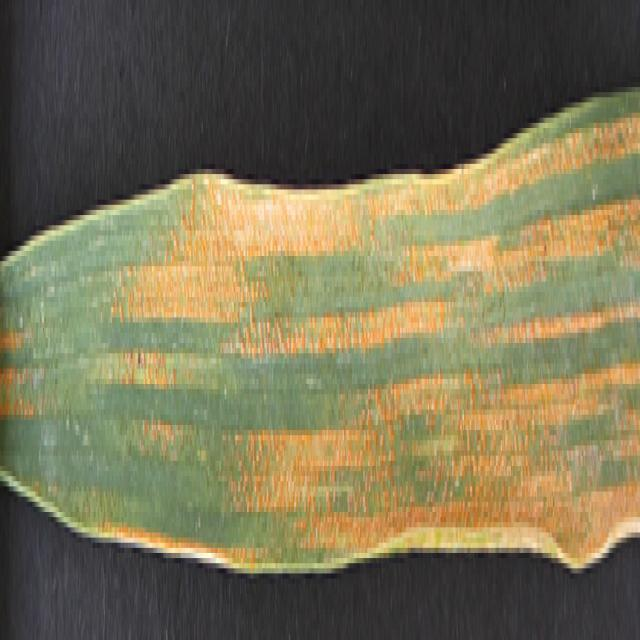leaf rust: (96, 97, 640, 563), (0, 272, 44, 486)
